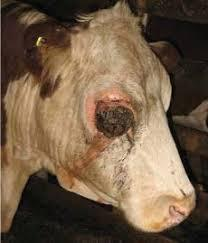infection: (73, 73, 161, 158)
